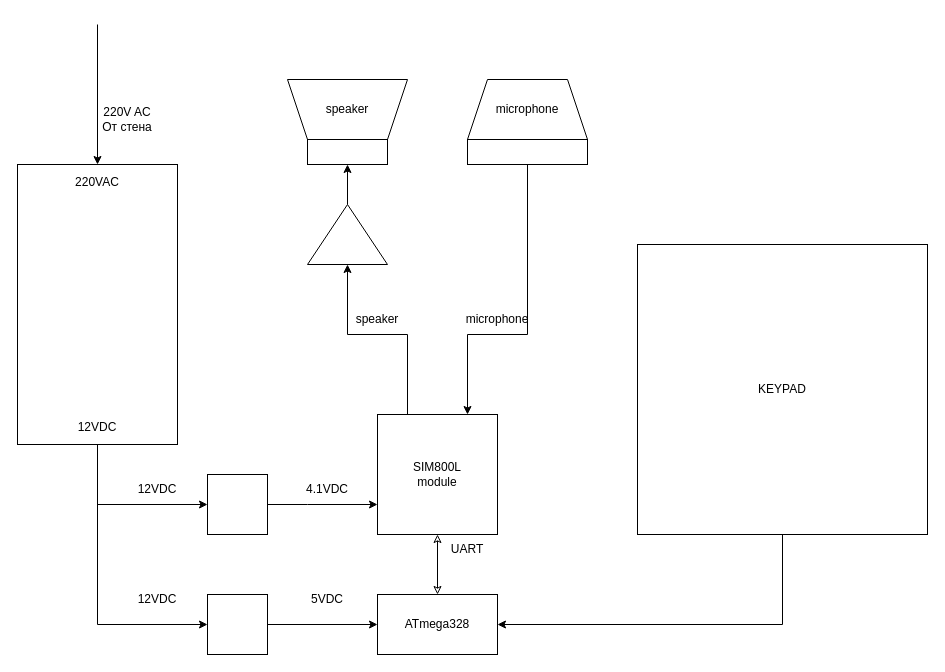
Image size: 945x672. Some labels were removed from this diagram. The centre of each missing label's shape, as x and y in pixels:
"amplifier" goes at (347,234).
"Buck DC- DC" goes at (237,624).
"Buck DC-DC" goes at (237,504).
